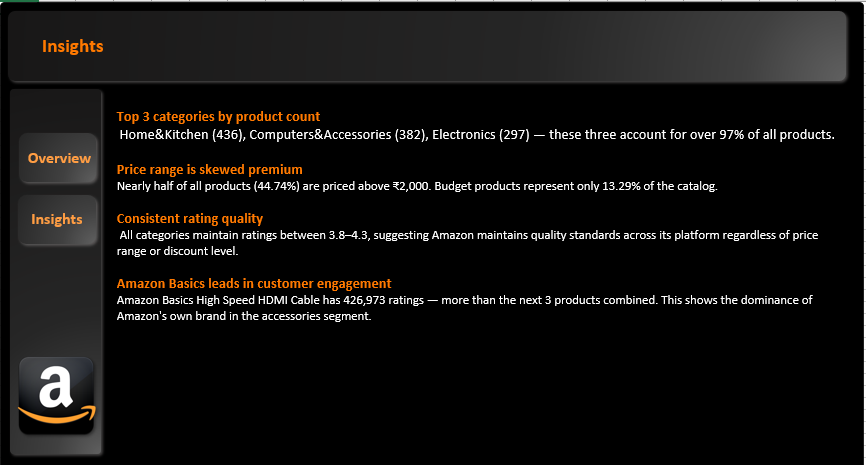

Layout of this report page (visuals, bound fields, positions):
{"tool":"powerbi","page":{"name":"insights","canvas":[1280,720],"ordinal":1},"visuals":[{"type":"shape","box":[0,0,1280.2,720],"z":500},{"type":"shape","box":[0,0,1276.1,134.3],"z":1000},{"type":"shape","box":[0,123.8,129.6,596.2],"z":2000},{"type":"shape","box":[987.1,17.1,195.7,100],"z":3000},{"type":"shape","box":[791.4,17.1,195.7,100],"z":4000},{"type":"textbox","box":[85.7,34.3,221.4,65.7],"z":5000},{"type":"actionButton","box":[1024.3,40,121.4,52.9],"z":6000},{"type":"actionButton","box":[828.6,40,121.4,52.9],"z":7000},{"type":"image","box":[20,585.7,91.4,100],"z":8000},{"type":"textbox","box":[130,134.3,1150,585.7],"z":9000}]}

Visuals, with their boxes on the page's 1280x720 design canvas (x1, y1, x2, y2). These are canvas units, not pixel positions in the 866x465 screenshot, which may show the page scaled, cropped or inside an application window:
shape: <bbox>0, 0, 1280, 720</bbox>
shape: <bbox>0, 0, 1276, 134</bbox>
shape: <bbox>0, 124, 130, 720</bbox>
shape: <bbox>987, 17, 1183, 117</bbox>
shape: <bbox>791, 17, 987, 117</bbox>
textbox: <bbox>86, 34, 307, 100</bbox>
actionButton: <bbox>1024, 40, 1146, 93</bbox>
actionButton: <bbox>829, 40, 950, 93</bbox>
image: <bbox>20, 586, 111, 686</bbox>
textbox: <bbox>130, 134, 1280, 720</bbox>
